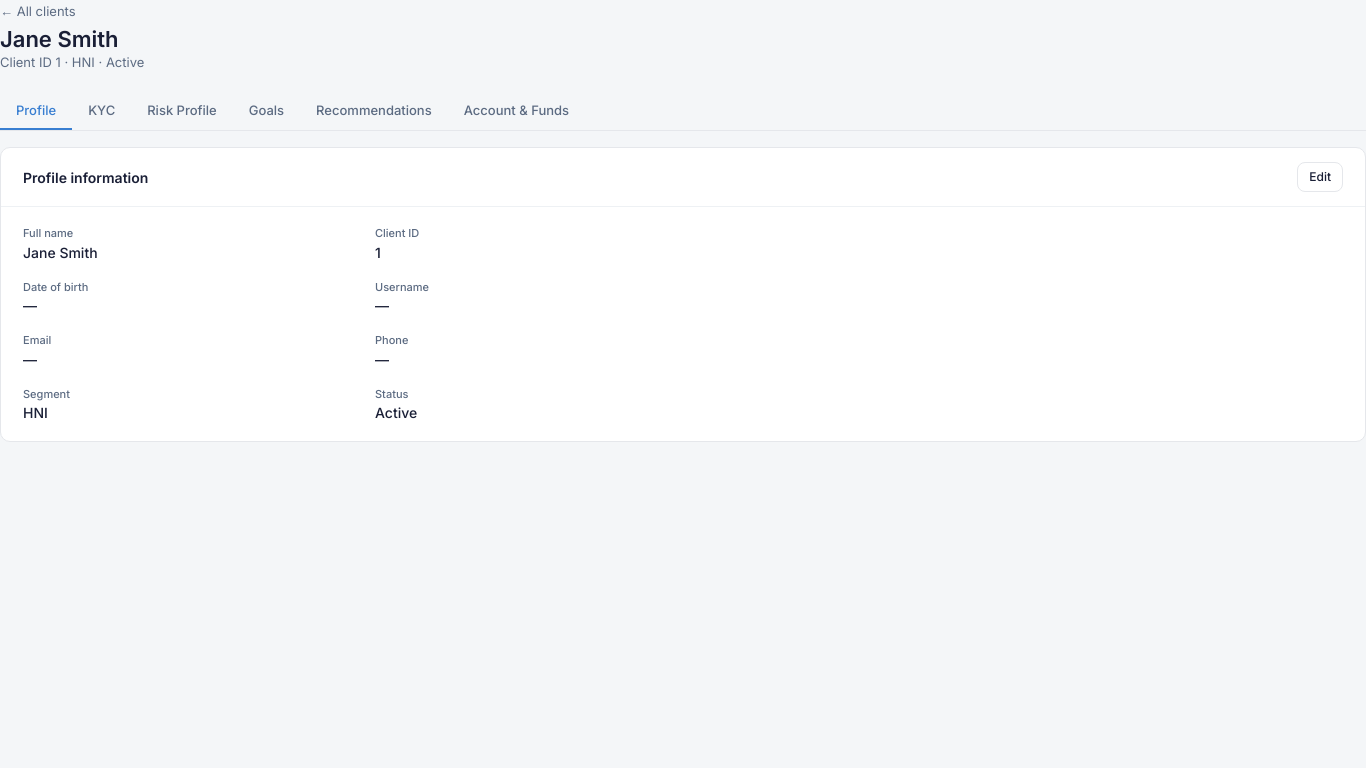
it: ClientDetail page › Risk Profile tab shows questionnaire when no risk profile
Click the button "Risk Profile" at (182, 111), box x1=131 y1=92 x2=233 y2=130
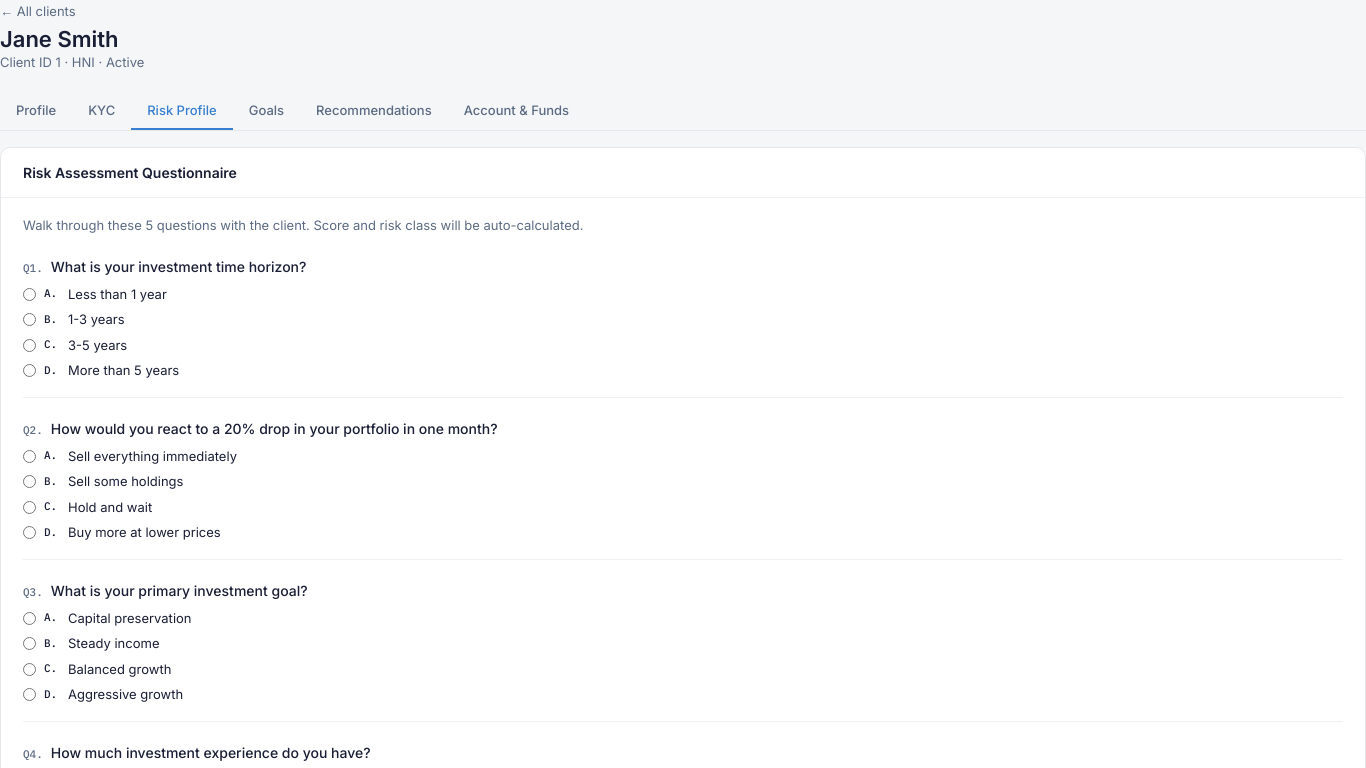
Expected: the text "Q1.What is your investment time horizon?" is shown, x1=23 y1=258 x2=306 y2=274
